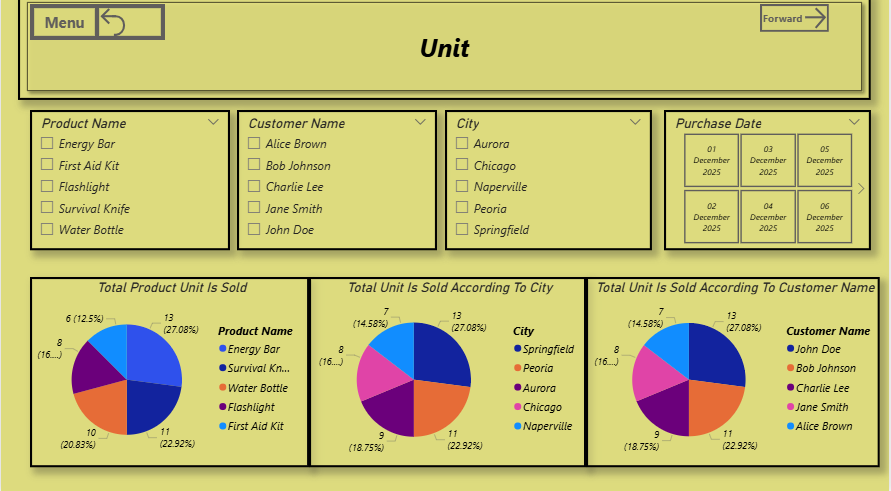

This screenshot's page, from the dashboard's own definition file:
{"tool":"powerbi","page":{"name":"Unit","canvas":[1280,720],"ordinal":0},"visuals":[{"type":"shape","box":[24.5,0,1228.3,154.1],"z":0},{"type":"slicer","fields":{"Values":["Apocolyse_sales.Product_name"]},"box":[41.8,168.5,288,201.6],"z":1000},{"type":"slicer","fields":{"Values":["Apocolyse_sales.customer_name"]},"box":[339.8,168.5,288,201.6],"z":2000},{"type":"slicer","fields":{"Values":["Apocolyse_sales.customer_city"]},"box":[639.4,168.5,298.1,201.6],"z":3000},{"type":"pieChart","title":"Total Product Unit Is Sold","fields":{"Category":["Apocolyse_sales.Product_name"],"Y":["Sum(Apocolyse_sales.units_sold)"]},"box":[41.8,409,401.8,273.6],"z":4000},{"type":"pieChart","title":"Total  Unit Is Sold According To City","fields":{"Y":["Sum(Apocolyse_sales.units_sold)"],"Category":["Apocolyse_sales.customer_city"]},"box":[443.5,409,398.9,273.6],"z":5000},{"type":"slicer","fields":{"Values":["Apocolyse_sales.date_purchase"]},"box":[954.7,168.5,298.1,201.6],"z":6000},{"type":"pieChart","title":"Total  Unit Is Sold According To Customer Name","fields":{"Y":["Sum(Apocolyse_sales.units_sold)"],"Category":["Apocolyse_sales.customer_name"]},"box":[842.4,409,423.4,273.6],"z":7000},{"type":"actionButton","title":"Forward","box":[1093,15.8,99.4,40.3],"z":8000},{"type":"actionButton","box":[41.8,15.8,99.4,51.8],"z":10000},{"type":"actionButton","box":[135.4,15.8,100.8,51.8],"z":11000}]}

Visuals, with their boxes in screenshot pixels (x1, y1, x2, y2), scaled from the page's 1280x720 canvas onto the 891x491 screenshot:
shape: bbox(17, 0, 872, 105)
slicer - Apocolyse_sales.Product_name: bbox(29, 115, 230, 252)
slicer - Apocolyse_sales.customer_name: bbox(237, 115, 437, 252)
slicer - Apocolyse_sales.customer_city: bbox(445, 115, 653, 252)
"Total Product Unit Is Sold" pieChart: bbox(29, 279, 309, 465)
"Total  Unit Is Sold According To City" pieChart: bbox(309, 279, 586, 465)
slicer - Apocolyse_sales.date_purchase: bbox(665, 115, 872, 252)
"Total  Unit Is Sold According To Customer Name" pieChart: bbox(586, 279, 881, 465)
"Forward" actionButton: bbox(761, 11, 830, 38)
actionButton: bbox(29, 11, 98, 46)
actionButton: bbox(94, 11, 164, 46)
